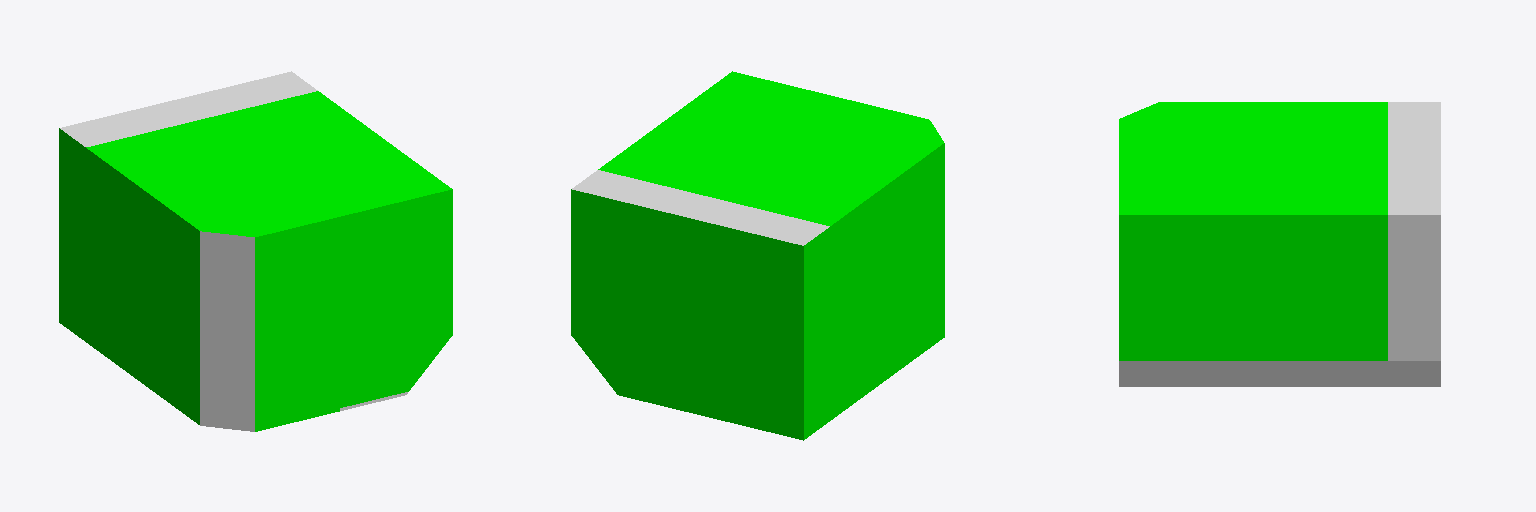
The picture shows the model from 3 angles: view 1: azimuth 30°, elevation 25°; view 2: azimuth 150°, elevation 25°; view 3: azimuth 270°, elevation 25°; orthographic projection.
Parts seen in each view (by area): view 1: white_obstacle1; view 2: white_obstacle1; view 3: white_obstacle1.
Boxes of the visible parts, x1,y1,x2,y2 form: white_obstacle1: [59, 71, 452, 431]; white_obstacle1: [571, 71, 944, 440]; white_obstacle1: [1119, 102, 1440, 386].
Bounding box in the file's own units: 100 × 80 × 120.
Materials: 1 (1 with a texture image).